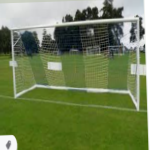goals: (9, 16, 142, 115)
